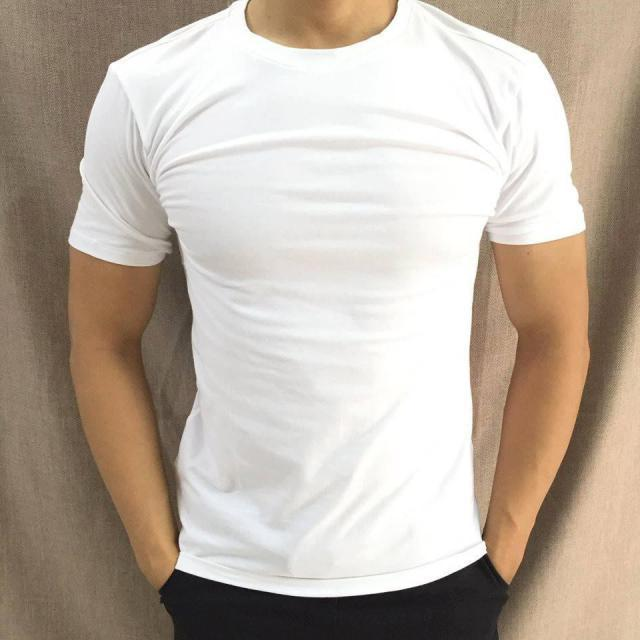short sleeve shirt: (65, 2, 588, 601)
trousers: (157, 551, 514, 640)
